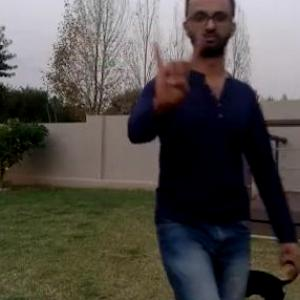takeoff-hand: (146, 34, 205, 110)
